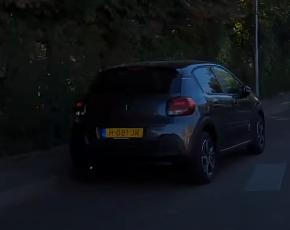license-plate: (102, 128, 145, 139)
